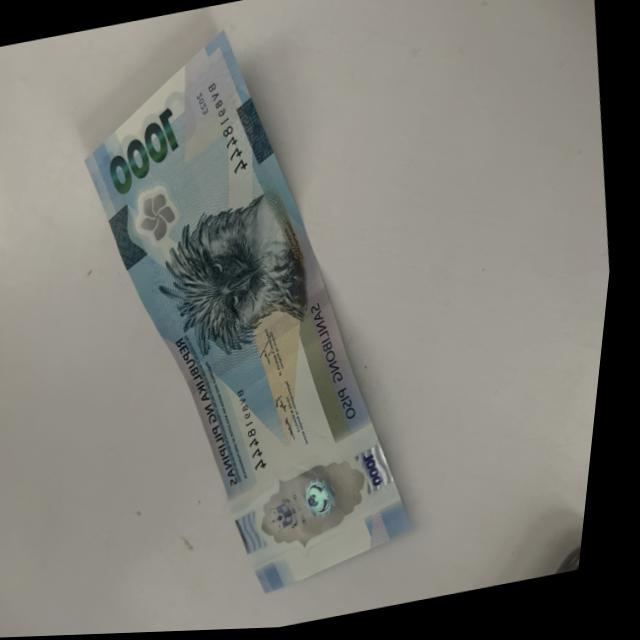clear_window: (228, 418, 420, 578)
eagle: (141, 180, 339, 372)
sampaguita: (126, 169, 196, 264)
